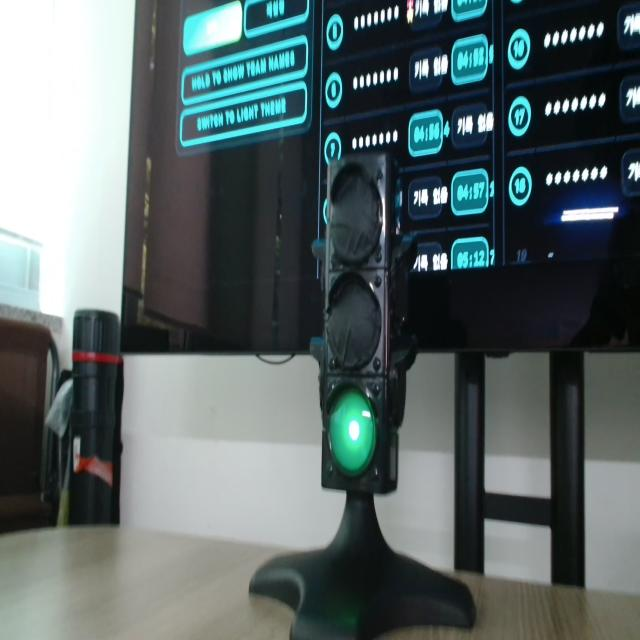green_light: (329, 388, 375, 475)
